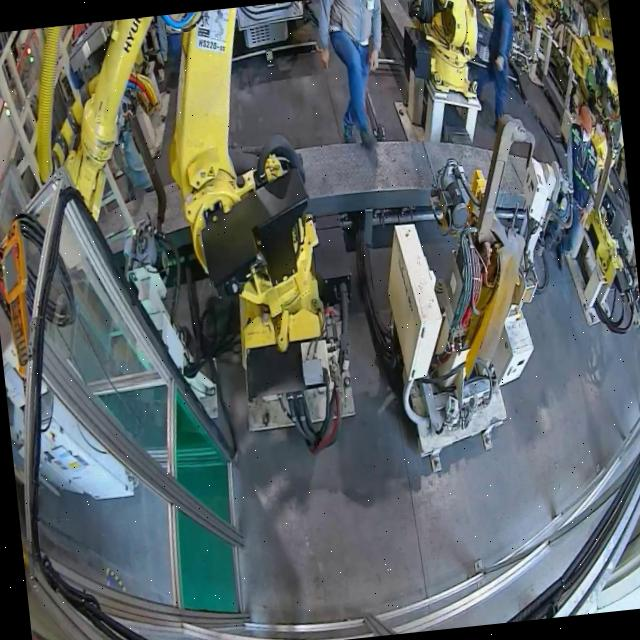Person: (312, 0, 395, 153), (540, 101, 610, 272), (477, 0, 533, 132), (107, 124, 157, 212)
